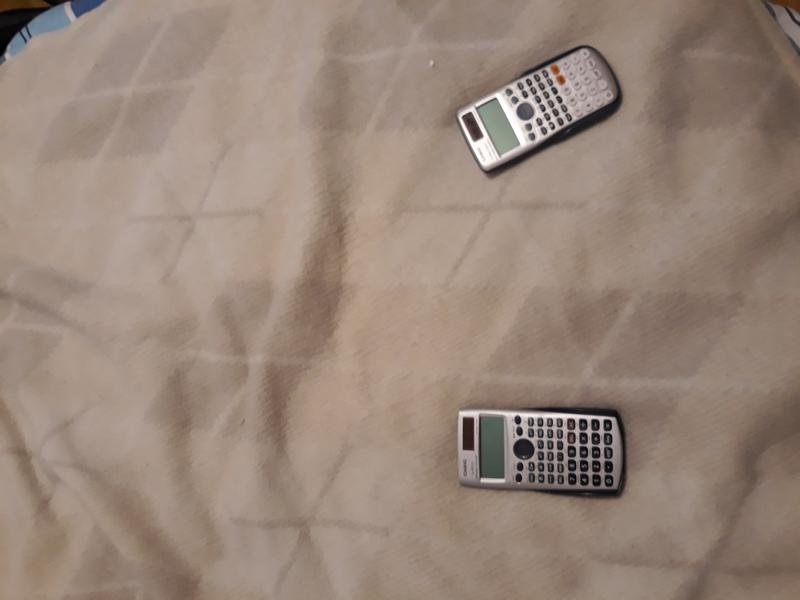CASIO_fx_991ES: (435, 396, 648, 508)
CASIO_fx_991ES_PLUS: (436, 42, 629, 186)
